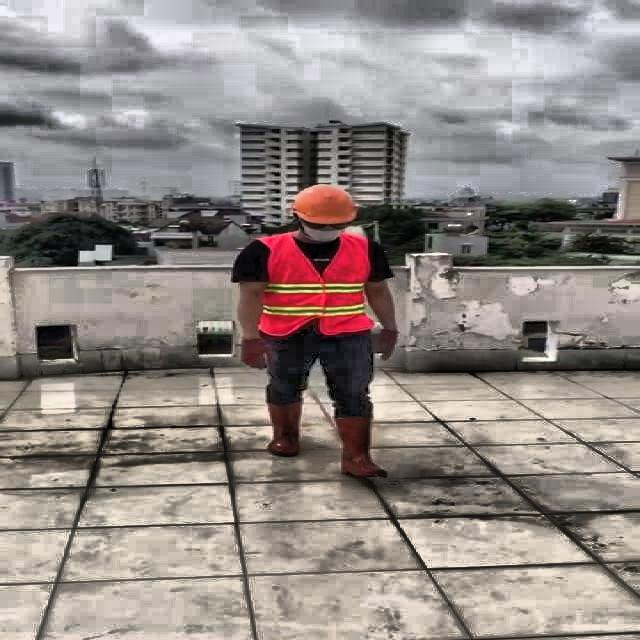safety_jacket: (259, 235, 377, 334)
